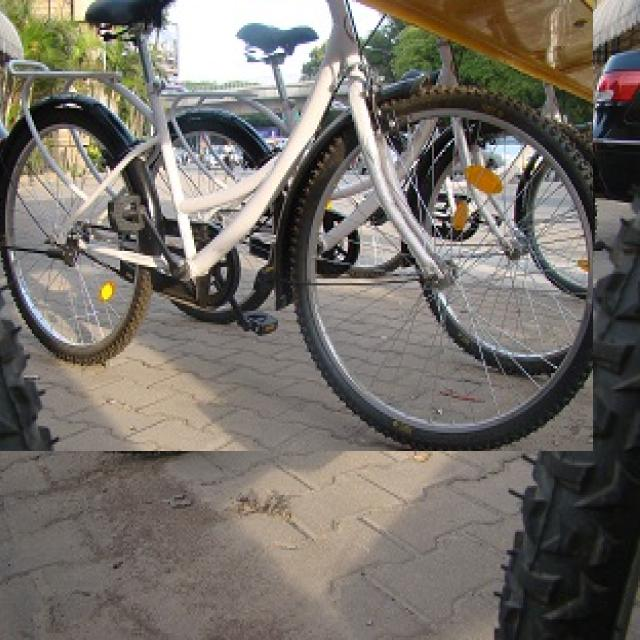bicycle: (0, 0, 593, 451)
